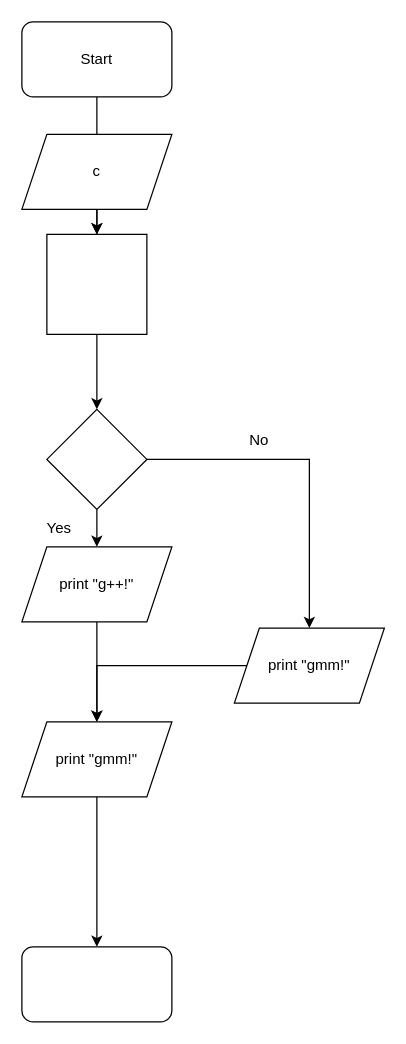
Image size: 406x1044. Some labels were removed from this diagram. The shapes that lost their labels are listed below. From the top down, each one's centre as x and y in pixels, then its label:
At [96,283]: "c++".
At [96,458]: "c > 10".
At [96,984]: "End".
